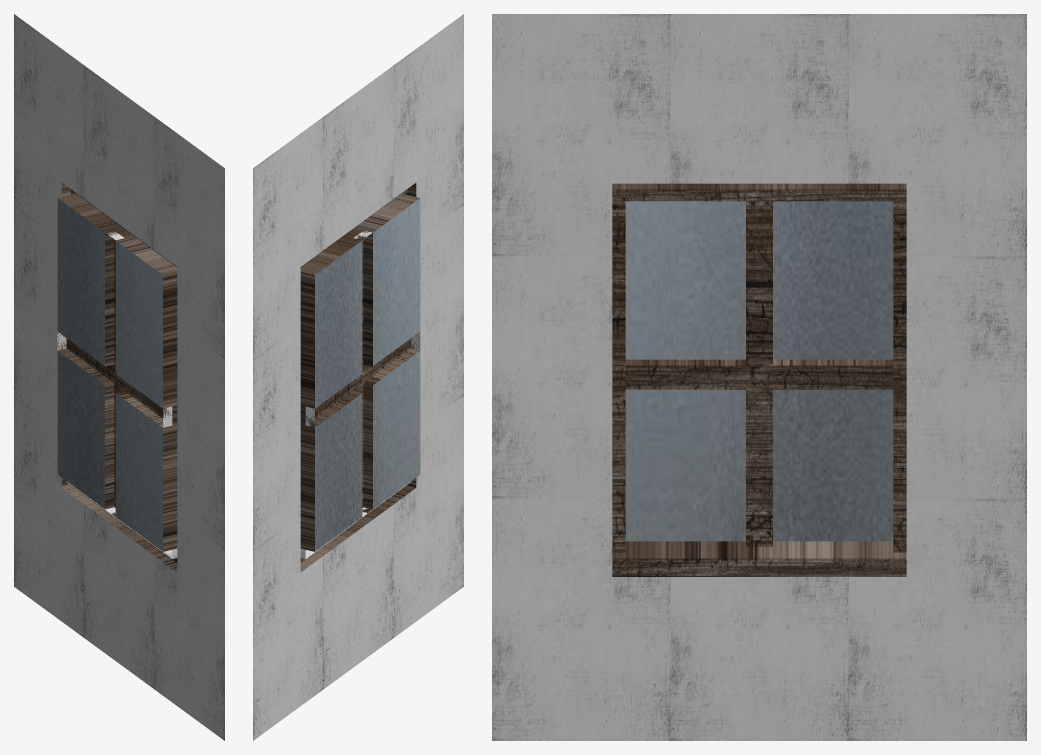
File: Window001.FBX
3 renders of one model, left to right at view 1: azimuth 30°, elevation 25°; view 2: azimuth 150°, elevation 25°; view 3: azimuth 270°, elevation 25°, orthographic. The views are drawn at different scales.
Visible parts, largest first — view 1: Window001; view 2: Window001; view 3: Window001.
Boxes of the visible parts, <box> form: Window001: <box>14,14,224,740</box>; Window001: <box>253,14,463,740</box>; Window001: <box>492,14,1026,740</box>.
Bounding box in the file's own units: 15 × 300 × 200.
